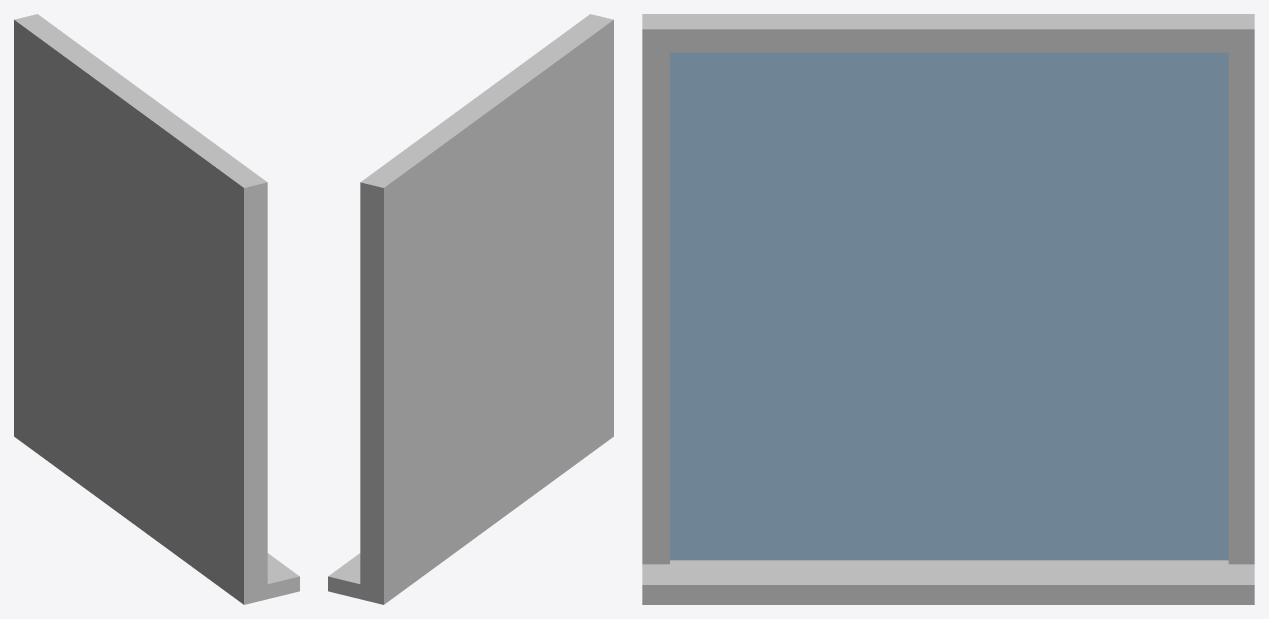
File: Window.fbx
3 renders of one model, left to right at view 1: azimuth 30°, elevation 25°; view 2: azimuth 150°, elevation 25°; view 3: azimuth 270°, elevation 25°, orthographic. The views are drawn at different scales.
Parts seen in each view (by area): view 1: Window; view 2: Window; view 3: Cube.002, Window.
Part boxes in pixels (bbox=[...]): Window: bbox=[14, 14, 299, 604]; Window: bbox=[328, 14, 613, 604]; Cube.002: bbox=[670, 52, 1228, 560]; Window: bbox=[642, 14, 1254, 604].
Size of the model in its own units: 49.8 by 356 by 356.
